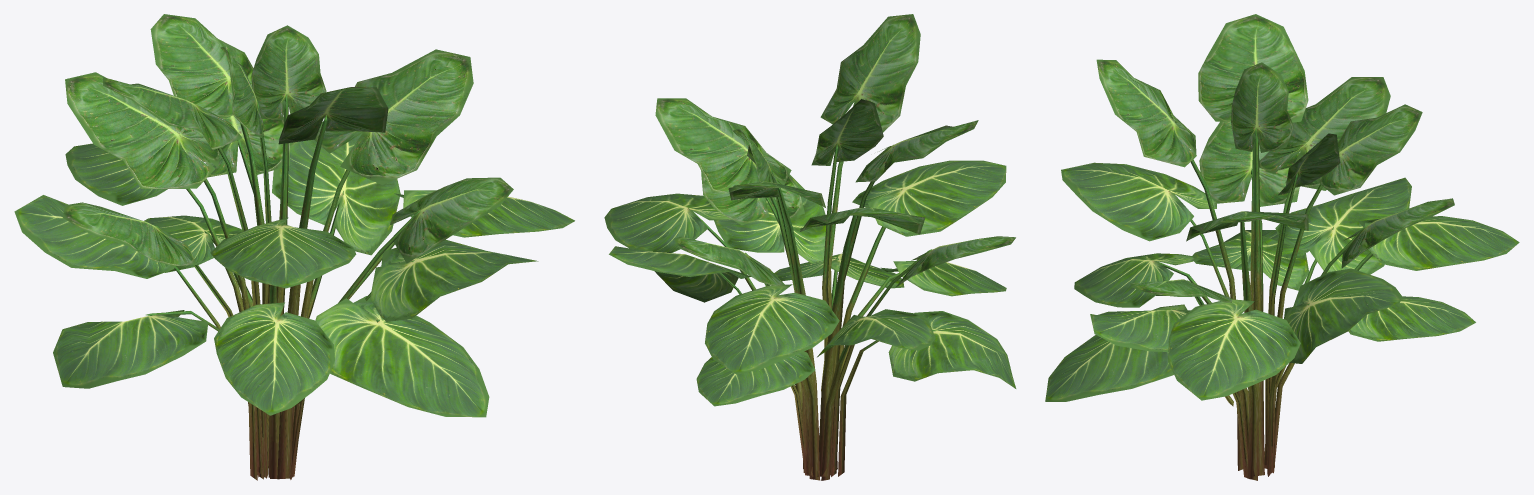
File: zhiwu11.fbx
3 renders of one model, left to right at view 1: azimuth 30°, elevation 25°; view 2: azimuth 150°, elevation 25°; view 3: azimuth 270°, elevation 25°, orthographic. The views are drawn at different scales.
Parts seen in each view (by area): view 1: zhiwu11; view 2: zhiwu11; view 3: zhiwu11.
Boxes of the visible parts, <box> form: zhiwu11: <box>14,14,574,480</box>; zhiwu11: <box>604,14,1016,480</box>; zhiwu11: <box>1045,14,1519,480</box>.
Bounding box in the file's own units: 22.11 × 20 × 21.09.
1 material, 1 textured.
